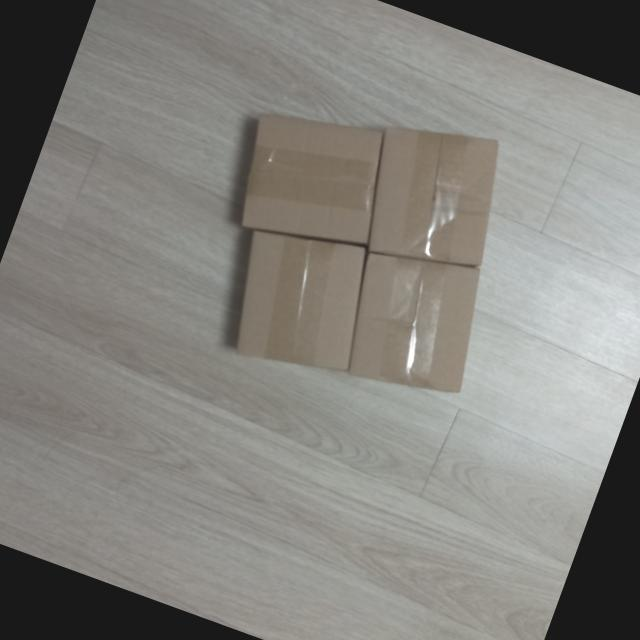box: (214, 80, 414, 276), (339, 96, 532, 295), (320, 220, 511, 414), (208, 202, 396, 394)
